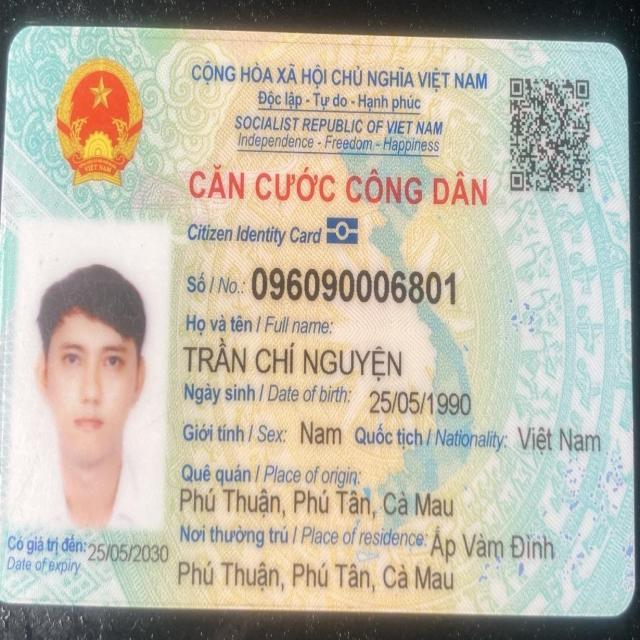current_place: (175, 553, 457, 599), (427, 526, 561, 568)
dob: (371, 383, 474, 419)
expire_date: (85, 536, 170, 572)
gender: (297, 417, 344, 450)
id: (247, 259, 465, 316)
name: (176, 337, 406, 383)
nationality: (514, 418, 607, 462)
origin_place: (175, 456, 458, 523)
qr: (506, 74, 595, 198)
